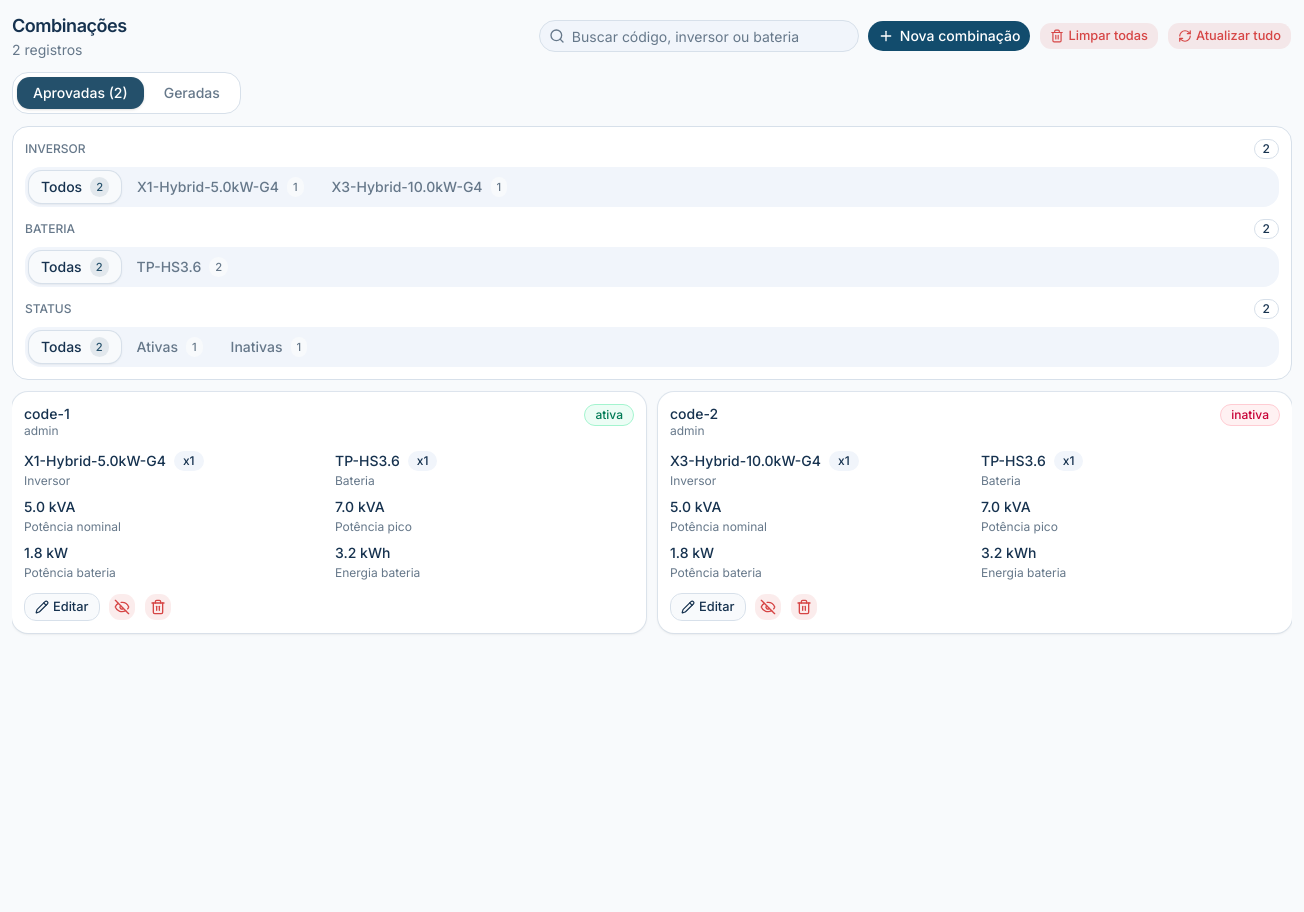
SolutionsEditor: Aprovadas listing › filters by inverter, then battery, then status
Click the button "X1-Hybrid-5.0kW-G4 1". click: (220, 187)
box: [125,171,316,203]
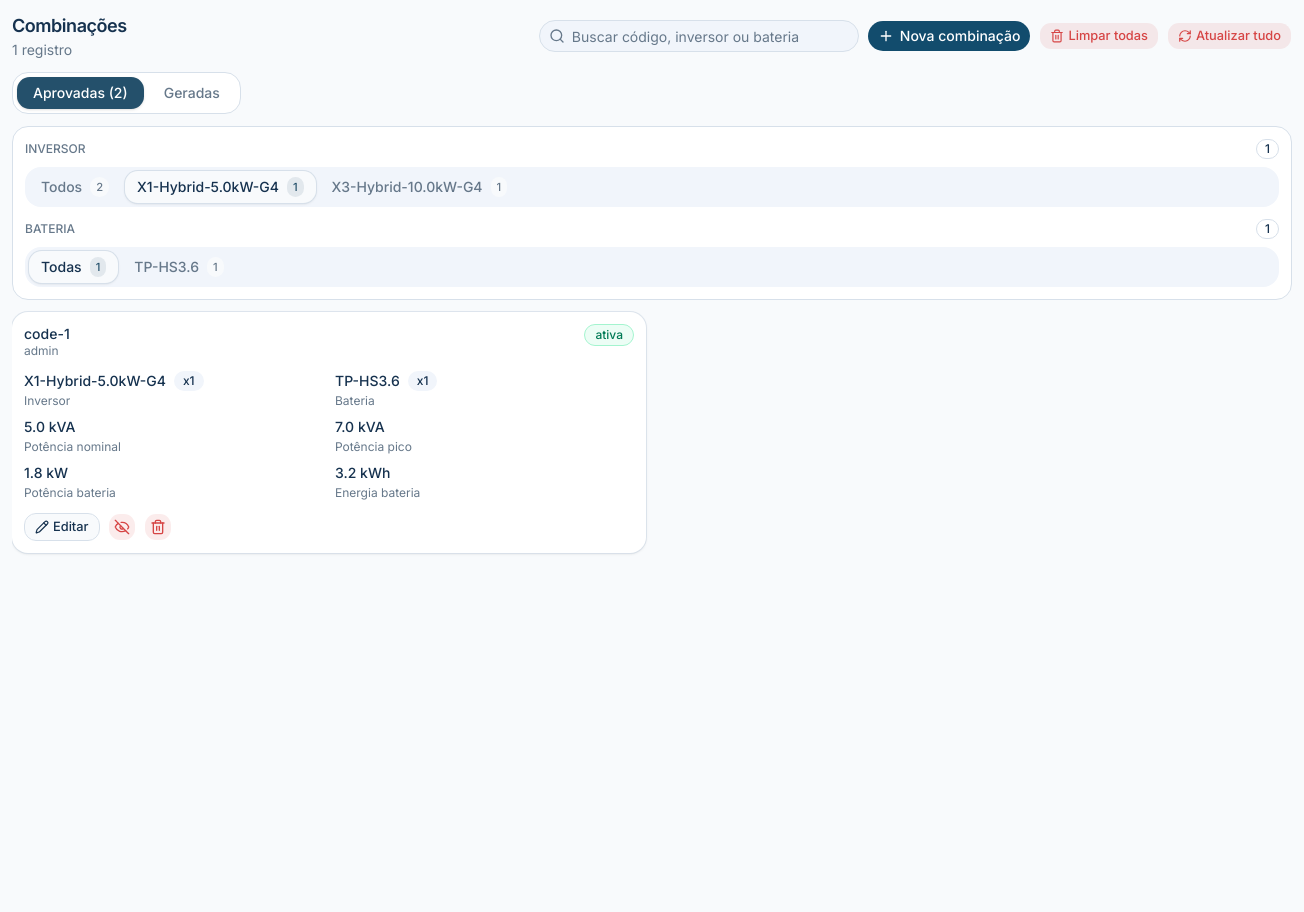
Check: the text "code-1" is shown, box [24,324,70,343]
Check: the text "code-2" is gone
